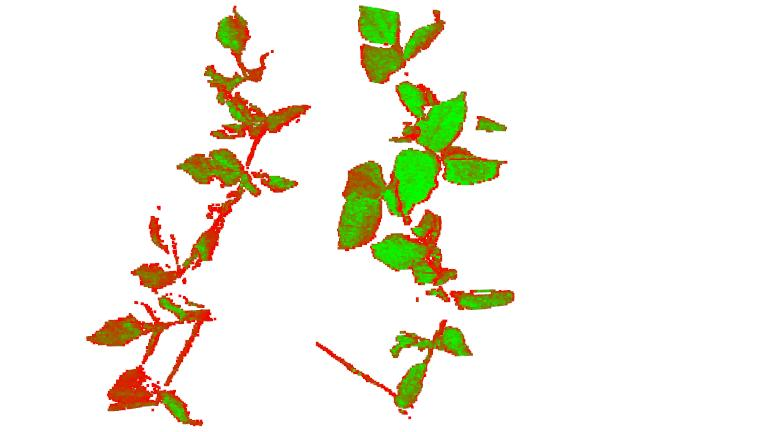mungbean: (338, 4, 526, 209), (336, 209, 516, 407), (85, 213, 229, 427), (174, 3, 312, 213)
